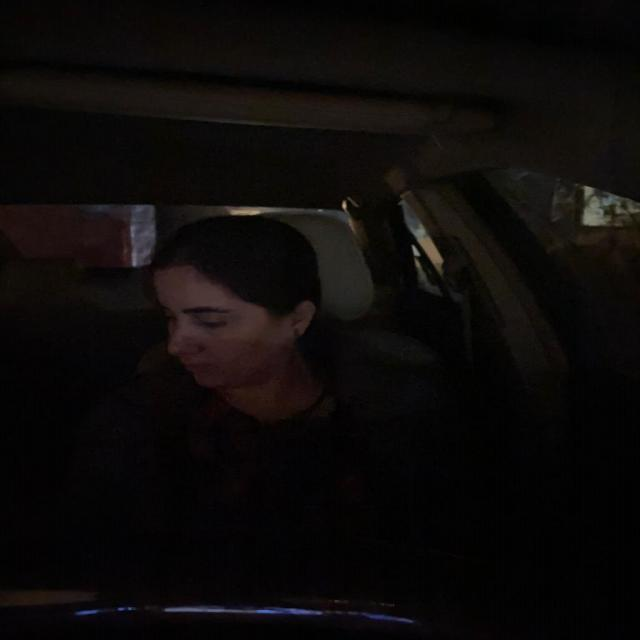drowsy: (142, 233, 332, 394)
